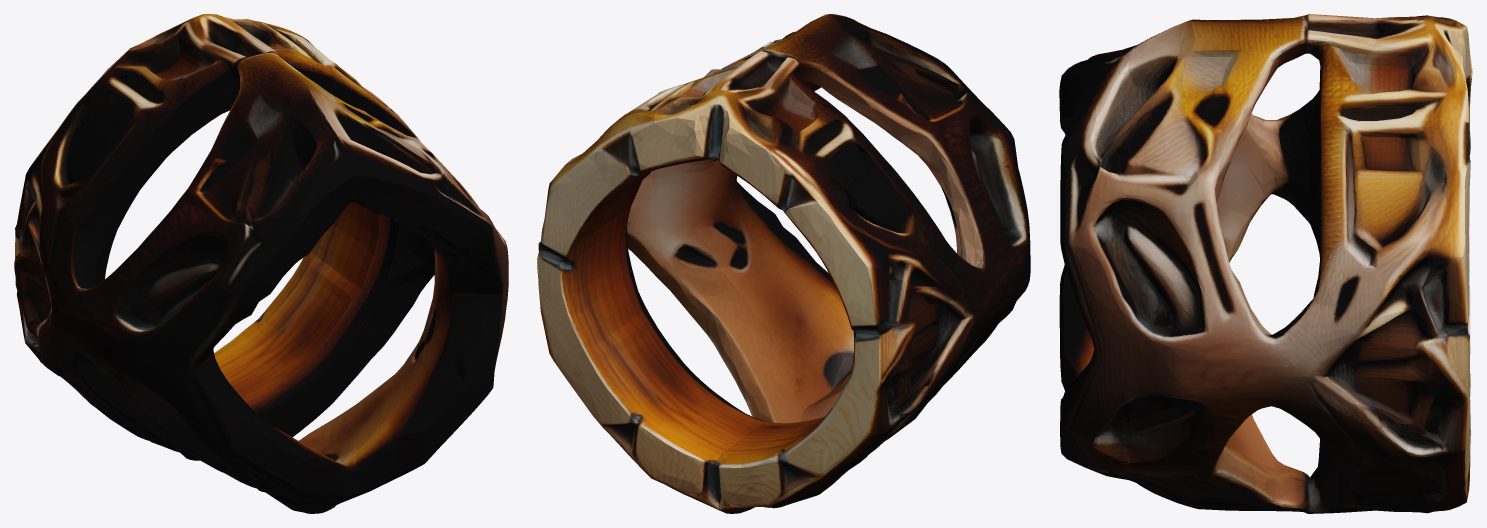
Rendered from wooden-ring-futuristic.jpeg.glb.
3 renders of one model, left to right at view 1: azimuth 30°, elevation 25°; view 2: azimuth 150°, elevation 25°; view 3: azimuth 270°, elevation 25°, orthographic. The views are drawn at different scales.
Parts seen in each view (by area): view 1: world; view 2: world; view 3: world.
Boxes of the visible parts, box(x1,y1,x2,y2) form: world: box(14, 14, 508, 513); world: box(537, 14, 1030, 513); world: box(1059, 14, 1472, 513).
Size of the model in its own units: 0.9983 by 1 by 0.7687.
Materials: 1 (1 with a texture image).
